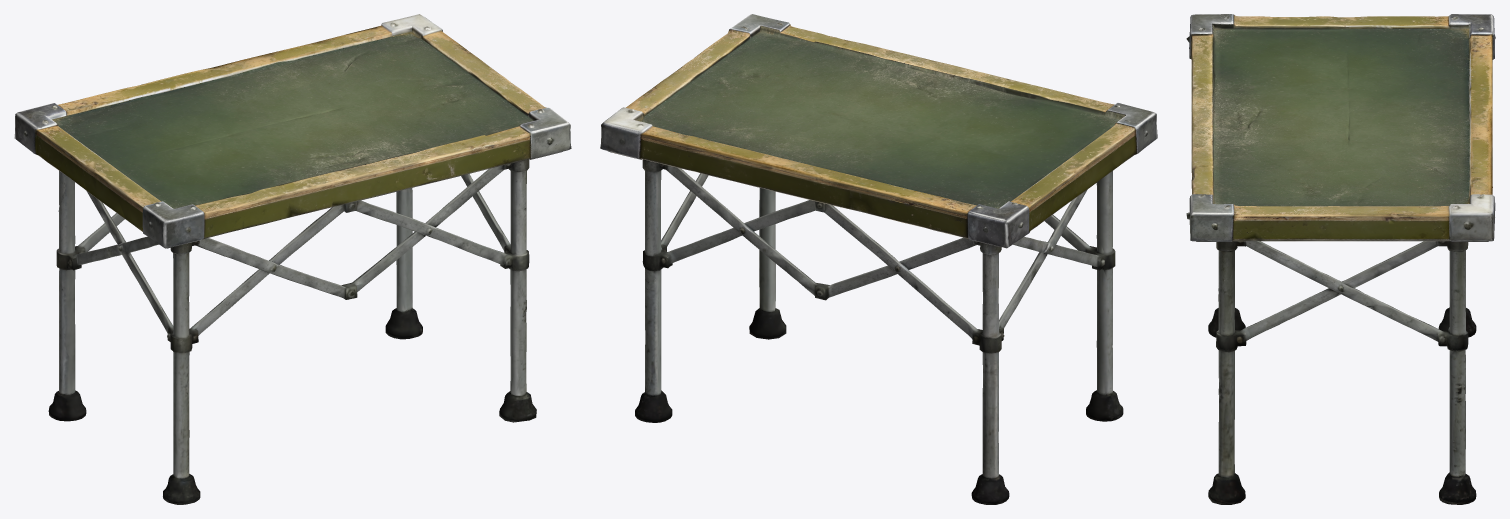
File: FieldTable.fbx
3 renders of one model, left to right at view 1: azimuth 30°, elevation 25°; view 2: azimuth 150°, elevation 25°; view 3: azimuth 270°, elevation 25°, orthographic.
Visible parts, largest first — view 1: tripo_node_e1013306; view 2: tripo_node_e1013306; view 3: tripo_node_e1013306.
Boxes of the visible parts, x1,y1,x2,y2 form: tripo_node_e1013306: [14, 14, 571, 504]; tripo_node_e1013306: [600, 14, 1157, 504]; tripo_node_e1013306: [1186, 14, 1495, 504].
Bounding box in the file's own units: 1 × 0.695 × 0.6435.
Materials: 1 (1 with a texture image).
